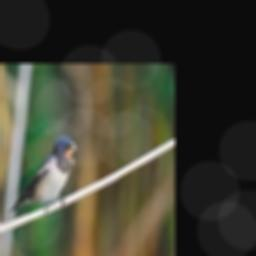Swallow: (7, 136, 81, 214)
